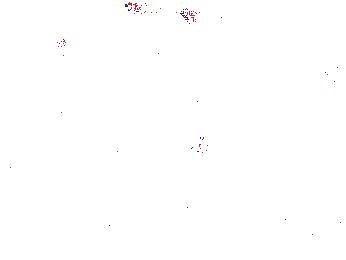X-ray fish: (192, 133, 210, 158)
redtail glassfish: (122, 1, 196, 25)
